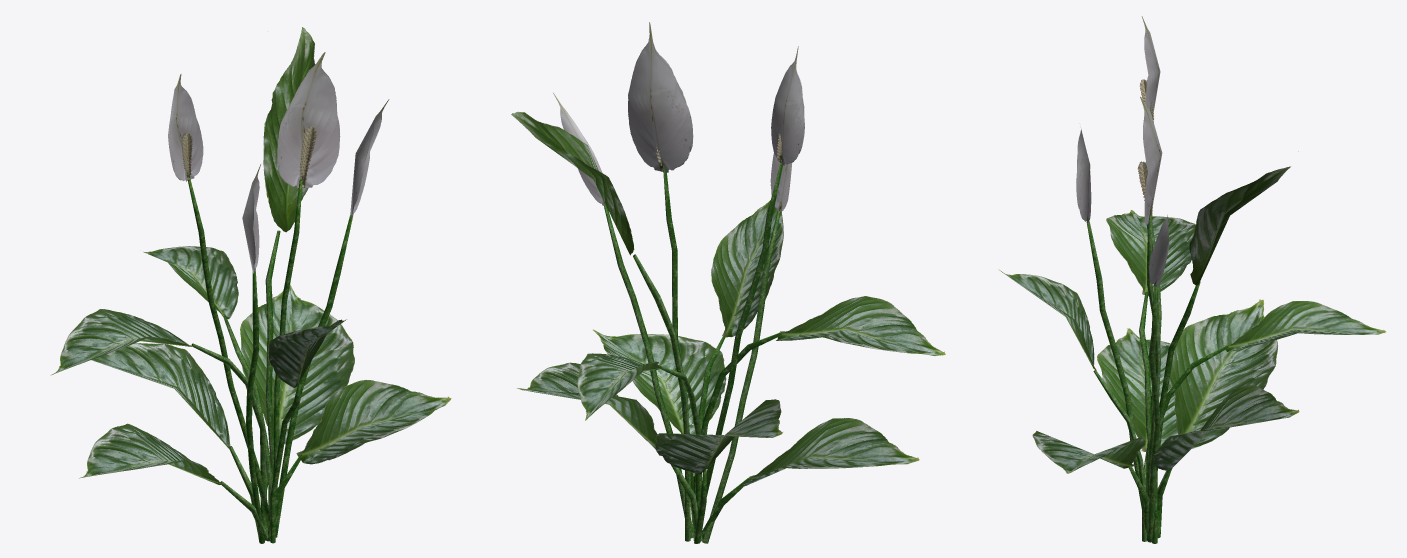
Rendered from flower 5.dae.
3 views of the same model, side by side, from view 1: azimuth 30°, elevation 25°; view 2: azimuth 150°, elevation 25°; view 3: azimuth 270°, elevation 25° (orthographic). The views are drawn at different scales.
Visible parts, largest first — view 1: flower_5_flower5, flower_5_flower51, flower_5_Group3_Form2; view 2: flower_5_flower5, flower_5_flower51; view 3: flower_5_flower5, flower_5_flower51.
Boxes of the visible parts, box(x1,y1,x2,y2) form: flower_5_flower5: box(50, 27, 451, 485); flower_5_flower51: box(187, 179, 352, 543); flower_5_Group3_Form2: box(181, 126, 317, 182); flower_5_flower5: box(511, 22, 945, 486); flower_5_flower51: box(603, 162, 782, 543); flower_5_flower5: box(998, 16, 1385, 473); flower_5_flower51: box(1086, 212, 1228, 543).
Size of the model in its own units: 47.05 by 58.19 by 43.17.
2 materials, 2 textured.
